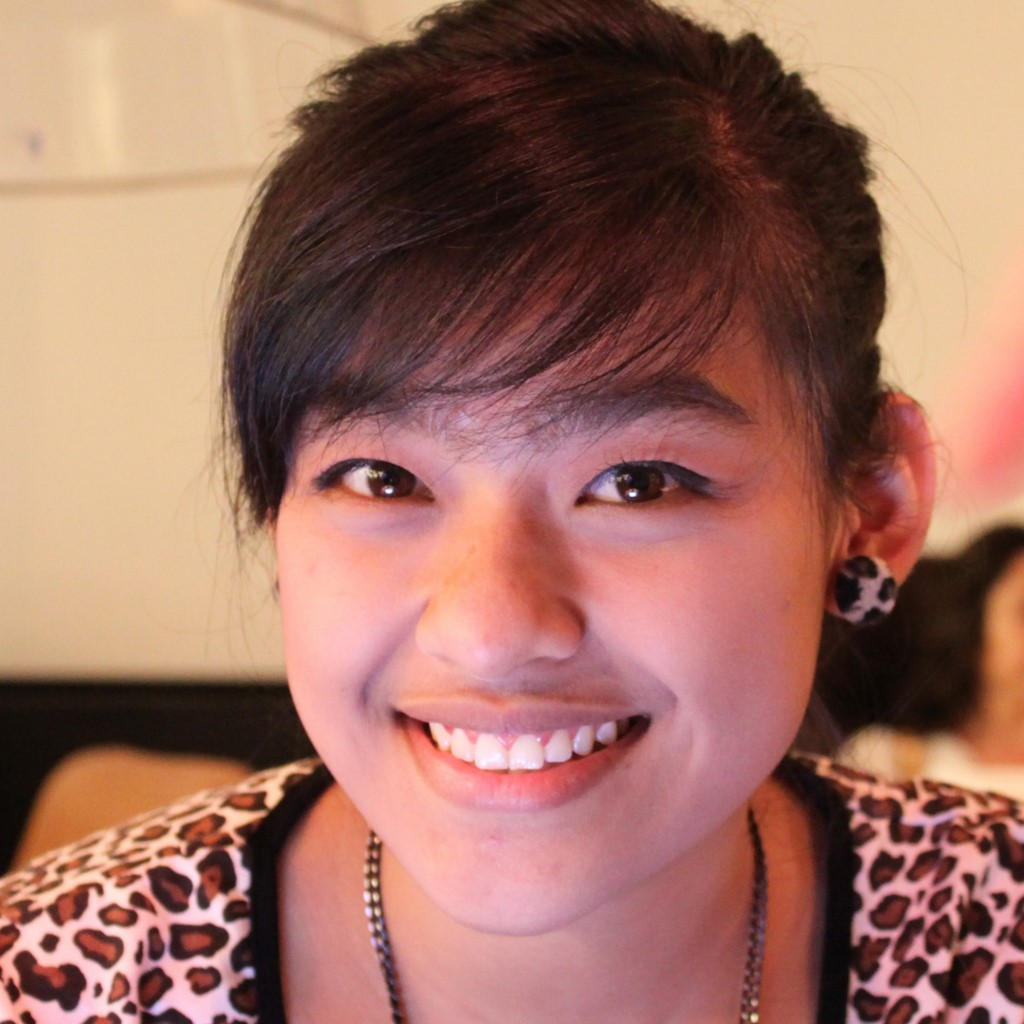sin_mascara: (261, 205, 847, 911)
